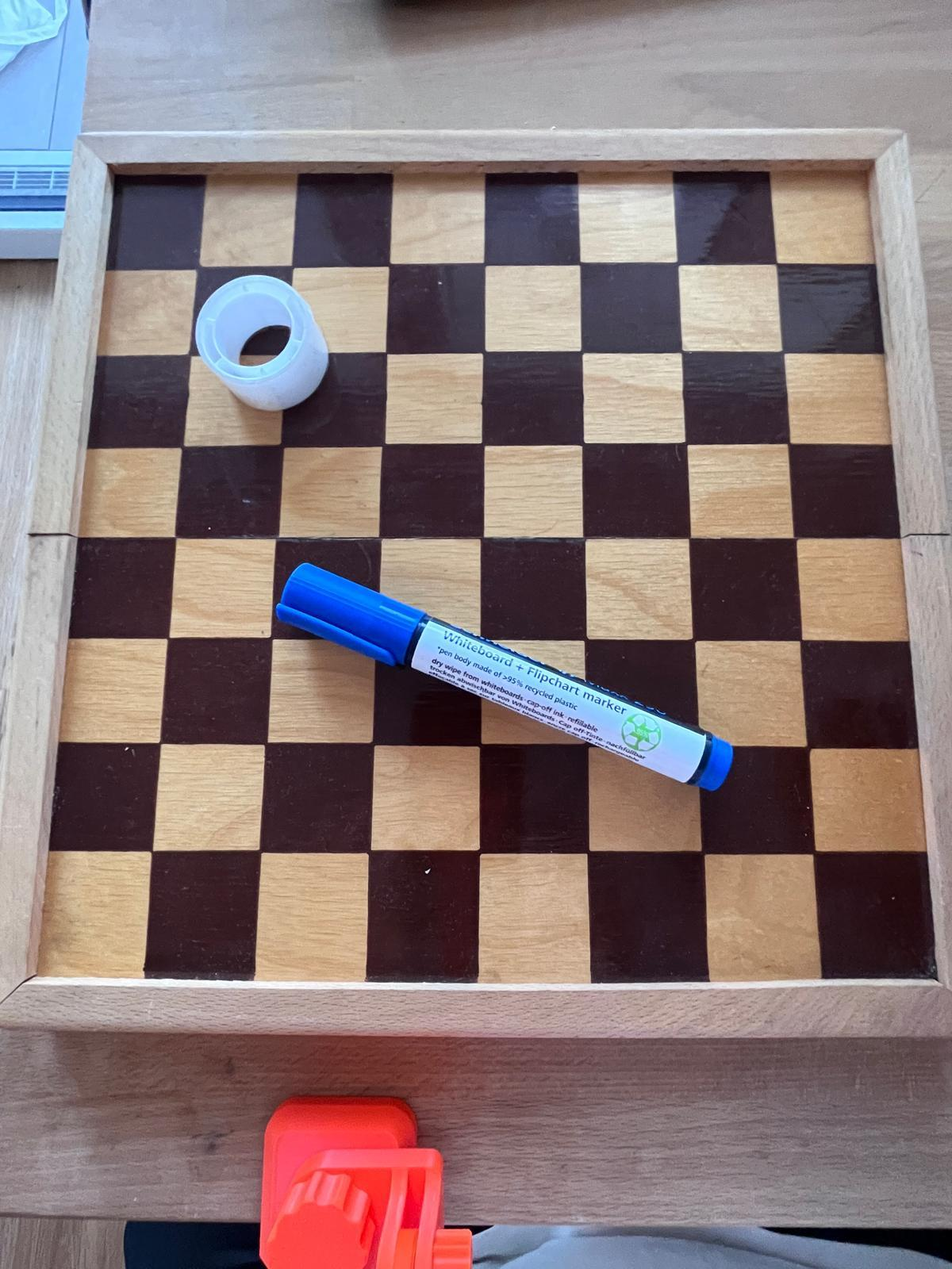marker: (273, 555, 736, 795)
tape: (186, 273, 338, 416)
